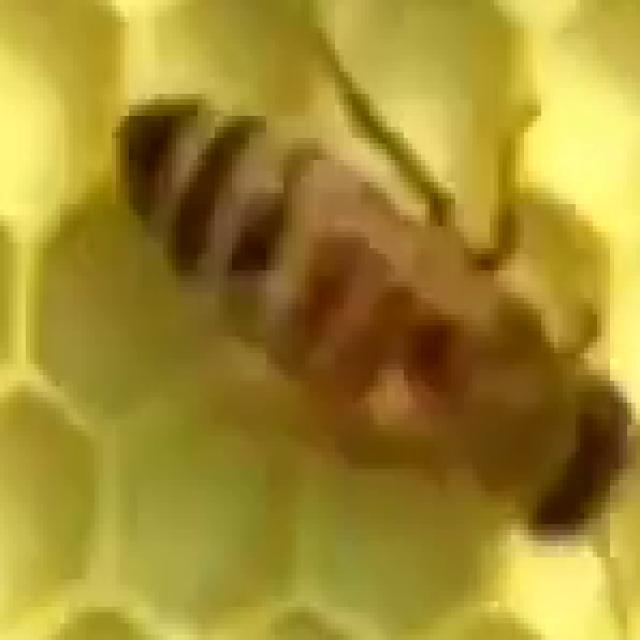honeybee: (107, 99, 622, 572)
